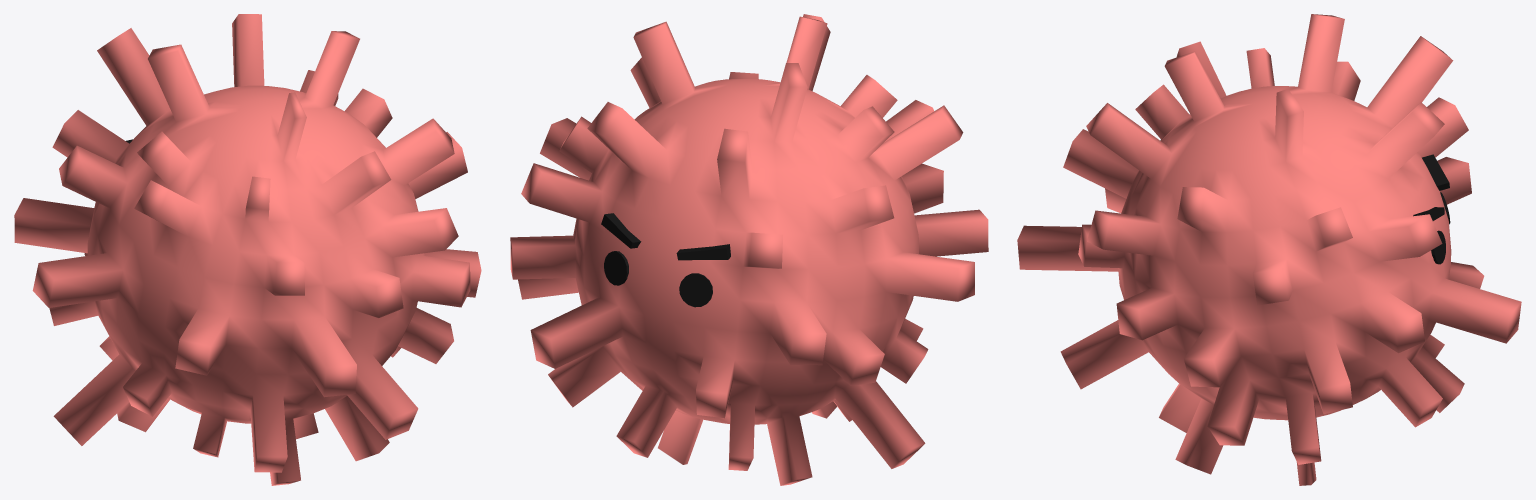
File: Virus_Corona_Angry.fbx
3 views of the same model, side by side, from view 1: azimuth 30°, elevation 25°; view 2: azimuth 150°, elevation 25°; view 3: azimuth 270°, elevation 25° (orthographic). The views are drawn at different scales.
Parts seen in each view (by area): view 1: Sphere; view 2: Sphere, Eye.R, EyeBrow.R, Eye.L, EyeBrow.L; view 3: Sphere.
Part boxes in pixels (bbox=[...]): Sphere: bbox=[14, 14, 481, 485]; Sphere: bbox=[510, 14, 988, 485]; Eye.R: bbox=[679, 273, 712, 307]; EyeBrow.R: bbox=[676, 244, 730, 260]; Eye.L: bbox=[604, 251, 628, 285]; EyeBrow.L: bbox=[601, 213, 641, 248]; Sphere: bbox=[1017, 14, 1521, 485].
Size of the model in its own units: 141 by 150 by 137.
